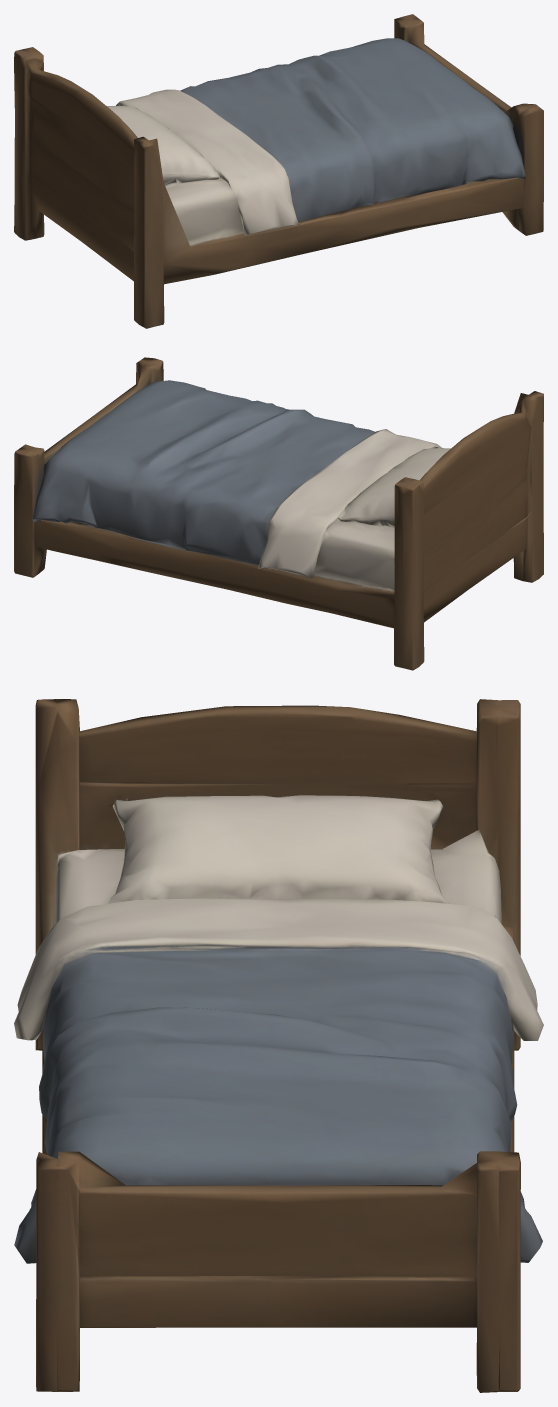
File: ENV_BED_v001_RAW.glb
3 renders of one model, top to bottom at view 1: azimuth 30°, elevation 25°; view 2: azimuth 150°, elevation 25°; view 3: azimuth 270°, elevation 25°, orthographic. The views are drawn at different scales.
Parts seen in each view (by area): view 1: tripo_node_8a9f9238-c89a-4980-9bd2-33a521f97aea; view 2: tripo_node_8a9f9238-c89a-4980-9bd2-33a521f97aea; view 3: tripo_node_8a9f9238-c89a-4980-9bd2-33a521f97aea.
Boxes of the visible parts, <box> form: tripo_node_8a9f9238-c89a-4980-9bd2-33a521f97aea: <box>14,14,543,328</box>; tripo_node_8a9f9238-c89a-4980-9bd2-33a521f97aea: <box>14,357,543,670</box>; tripo_node_8a9f9238-c89a-4980-9bd2-33a521f97aea: <box>14,699,543,1392</box>.
Size of the model in its own units: 0.9799 by 0.4278 by 0.6102.
Materials: 1 (1 with a texture image).
